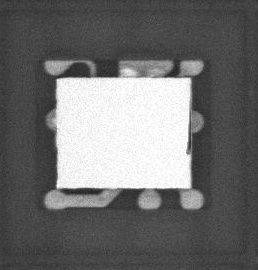DIE_BROKEN: (184, 108, 193, 158)
